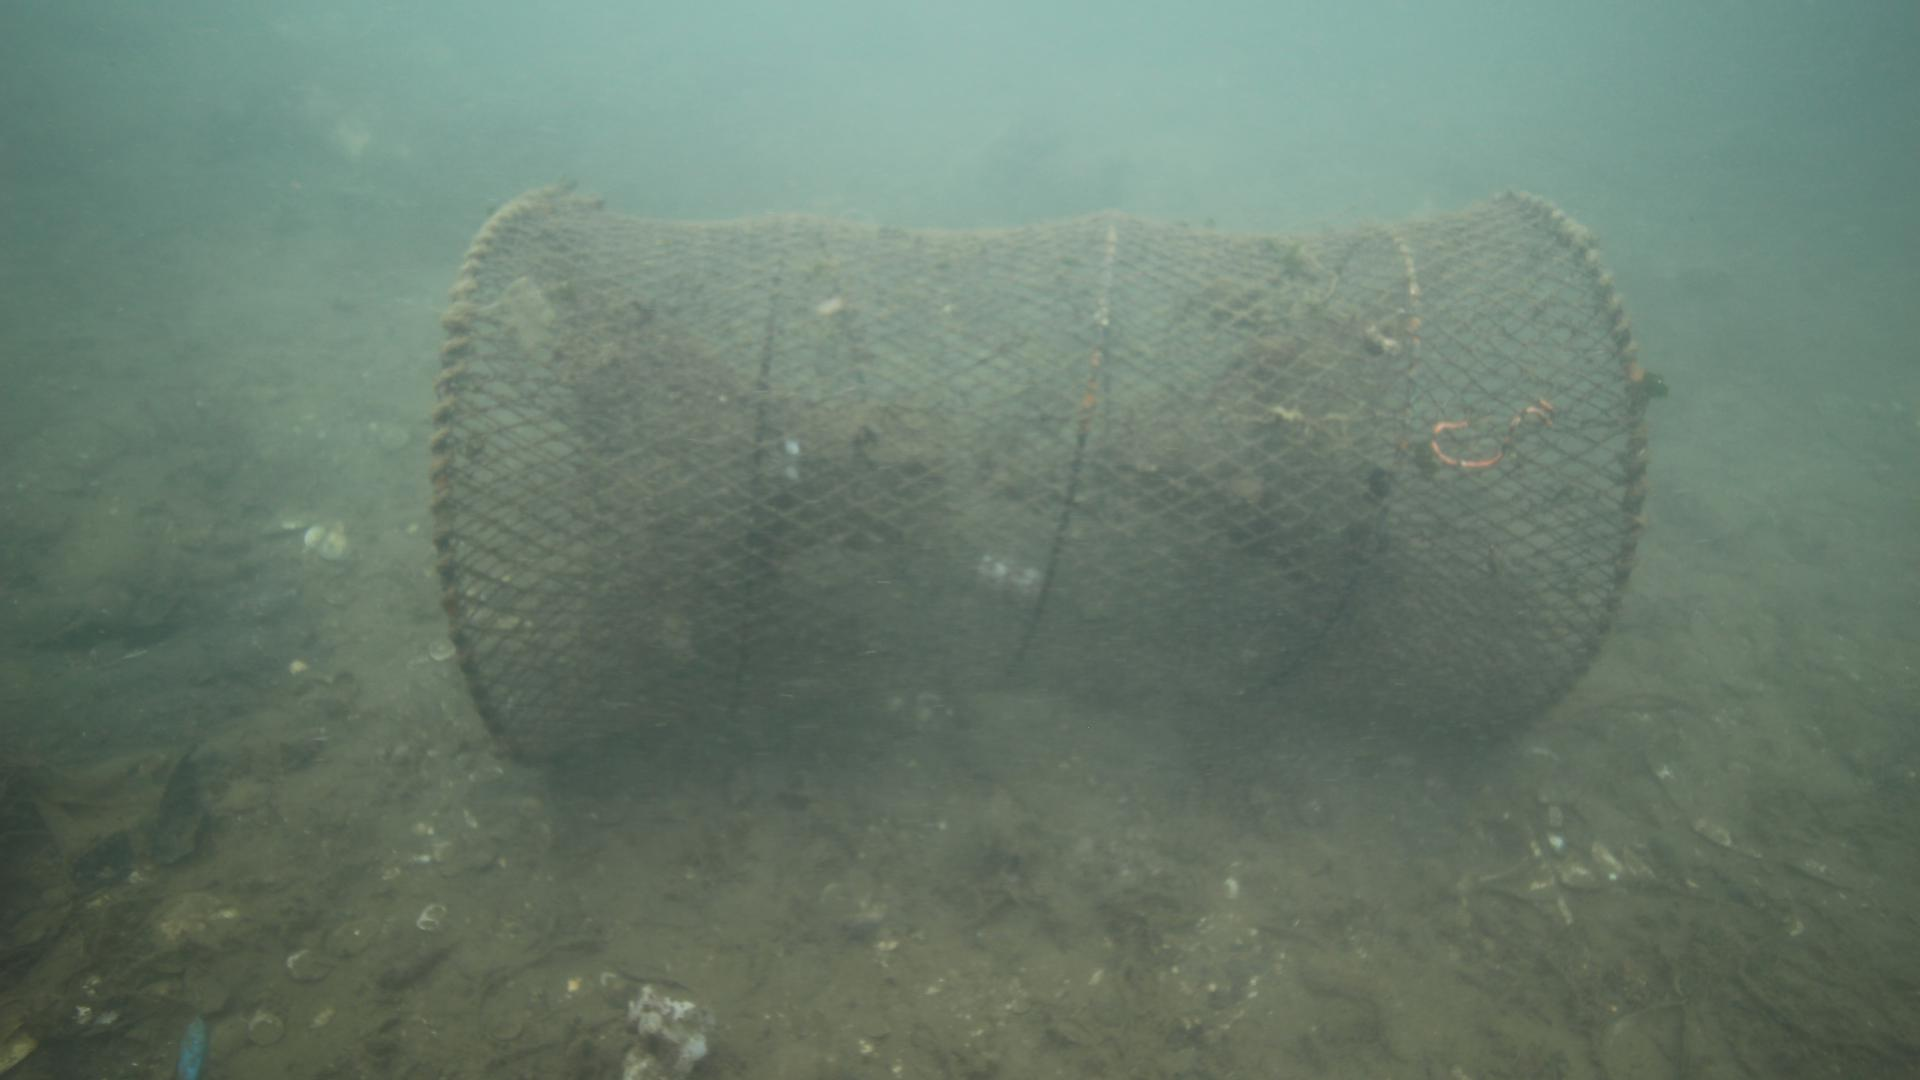spring fish trap: (426, 175, 1654, 771)
